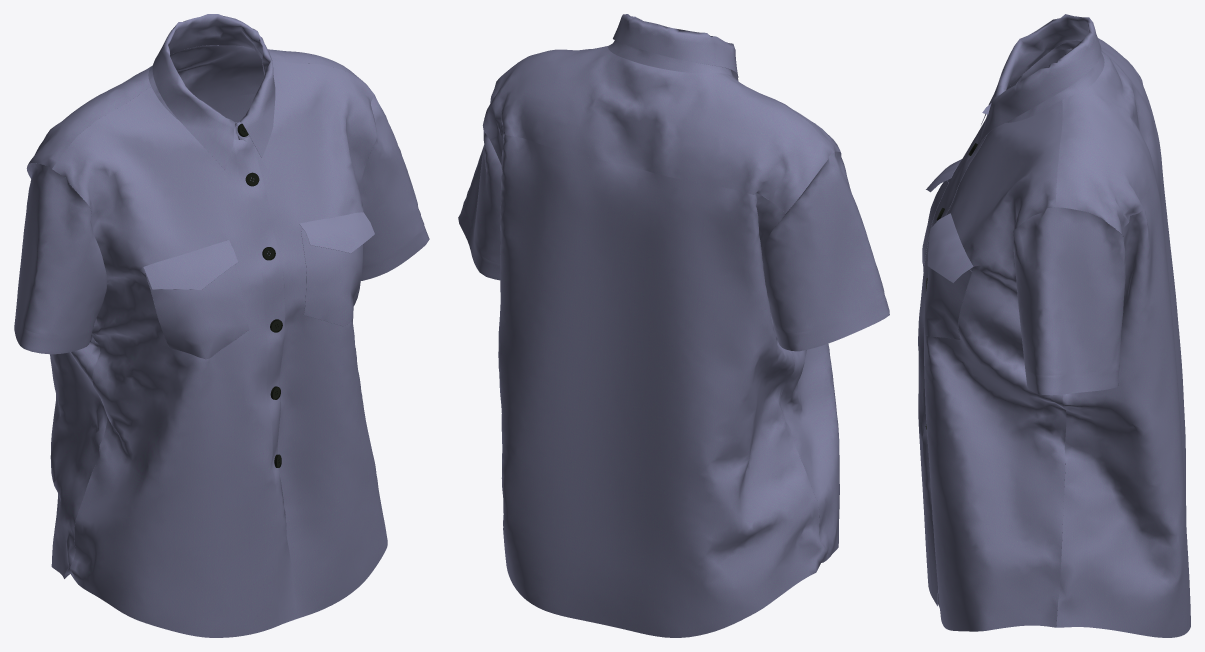
The picture shows the model from 3 angles, left to right: view 1: azimuth 30°, elevation 25°; view 2: azimuth 150°, elevation 25°; view 3: azimuth 270°, elevation 25°; orthographic projection. The views are drawn at different scales.
Visible parts, largest first — view 1: Pattern2D_5340174, Pattern2D_5340173, 31, Pattern2D_3547521, Pattern2D_3634183, Pattern2D_119045, 9, Pattern2D_5340176, Pattern2D_5340175, Pattern2D_5340178, Pattern2D_5340177; view 2: Pattern2D_3547521, Pattern2D_119045, 31, Pattern2D_5340174, Pattern2D_3634183, 9; view 3: Pattern2D_5340173, Pattern2D_3547521, 9, Pattern2D_119045, Pattern2D_3634183, Pattern2D_5340174, Pattern2D_5340175, Pattern2D_5340177, Pattern2D_5340176, 31.
Part boxes in pixels (x1,y1,x2,y2): Pattern2D_5340174: (52,87,296,637); Pattern2D_5340173: (243,60,387,623); 31: (14,163,107,354); Pattern2D_3547521: (50,94,255,578); Pattern2D_3634183: (148,14,275,170); Pattern2D_119045: (27,45,362,168); 9: (359,95,429,280); Pattern2D_5340176: (145,264,249,359); Pattern2D_5340175: (301,230,362,326); Pattern2D_5340178: (143,240,237,289); Pattern2D_5340177: (299,212,374,253); Pattern2D_3547521: (490,134,826,637); Pattern2D_119045: (483,46,834,213); 31: (762,151,889,351); Pattern2D_5340174: (727,74,840,562); Pattern2D_3634183: (608,14,738,80); 9: (458,125,502,280); Pattern2D_5340173: (924,100,1066,631); Pattern2D_3547521: (1056,87,1190,637); 9: (1013,207,1125,395); Pattern2D_119045: (1055,38,1153,236); Pattern2D_3634183: (981,14,1104,140); Pattern2D_5340174: (918,44,1061,606); Pattern2D_5340175: (923,267,971,339); Pattern2D_5340177: (927,213,973,282); Pattern2D_5340176: (922,180,948,264); 31: (1021,48,1071,81).
Bounding box in the file's own units: 53.03 × 68.46 × 29.5.
